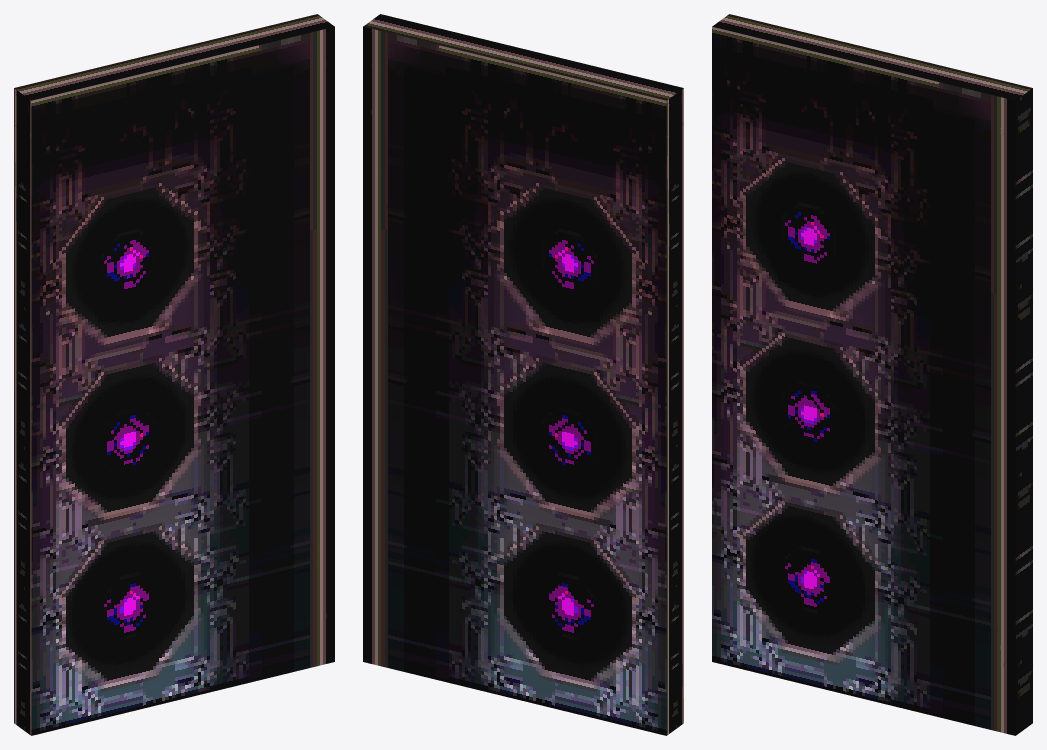
File: SM_Door_Half.gltf
3 renders of one model, left to right at view 1: azimuth 30°, elevation 25°; view 2: azimuth 150°, elevation 25°; view 3: azimuth 330°, elevation 25°, orthographic.
Visible parts, largest first — view 1: SM_Door_Half; view 2: SM_Door_Half; view 3: SM_Door_Half.
Boxes of the visible parts, box(x1,y1,x2,y2) form: SM_Door_Half: box(14, 14, 334, 735); SM_Door_Half: box(363, 14, 683, 735); SM_Door_Half: box(712, 14, 1032, 735).
Size of the model in its own units: 4 by 8 by 0.3954.
